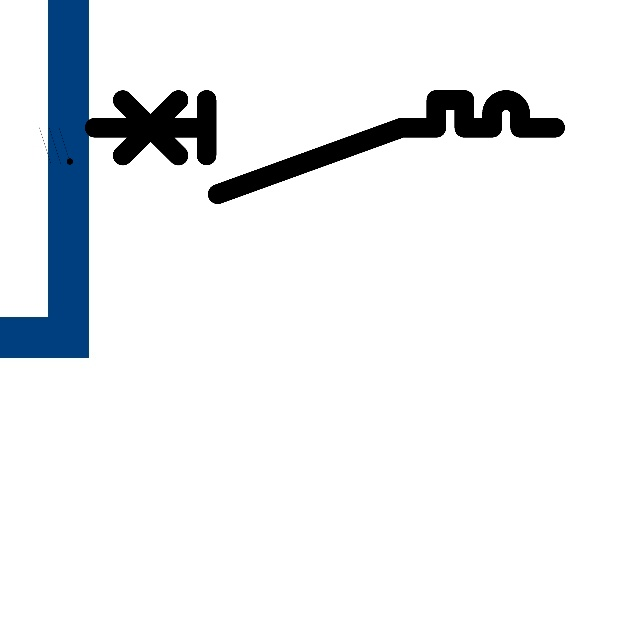interruptor_termomagnetico: (82, 88, 566, 206)
